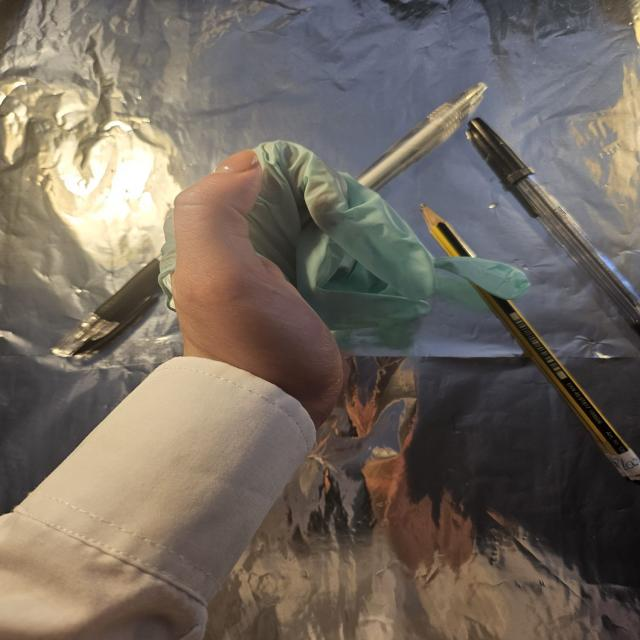glove_partial: (155, 141, 531, 408)
